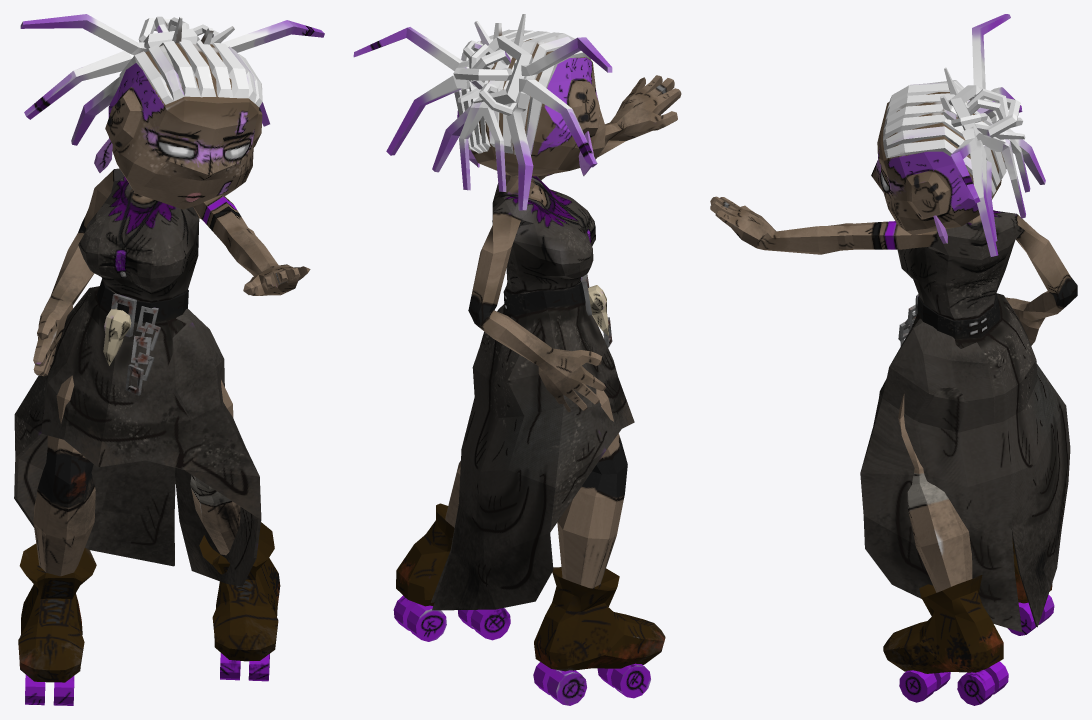
Rendered from bruja_000020.obj.
3 views of the same model, side by side, from view 1: azimuth 30°, elevation 25°; view 2: azimuth 150°, elevation 25°; view 3: azimuth 270°, elevation 25° (orthographic). The views are drawn at different scales.
Parts seen in each view (by area): view 1: Bruja_Plane.001; view 2: Bruja_Plane.001; view 3: Bruja_Plane.001.
Boxes of the visible parts, box(x1,y1,x2,y2) form: Bruja_Plane.001: box(14, 14, 324, 705); Bruja_Plane.001: box(353, 14, 681, 705); Bruja_Plane.001: box(710, 14, 1077, 705).
Bounding box in the file's own units: 7.96 × 16.39 × 8.94.
